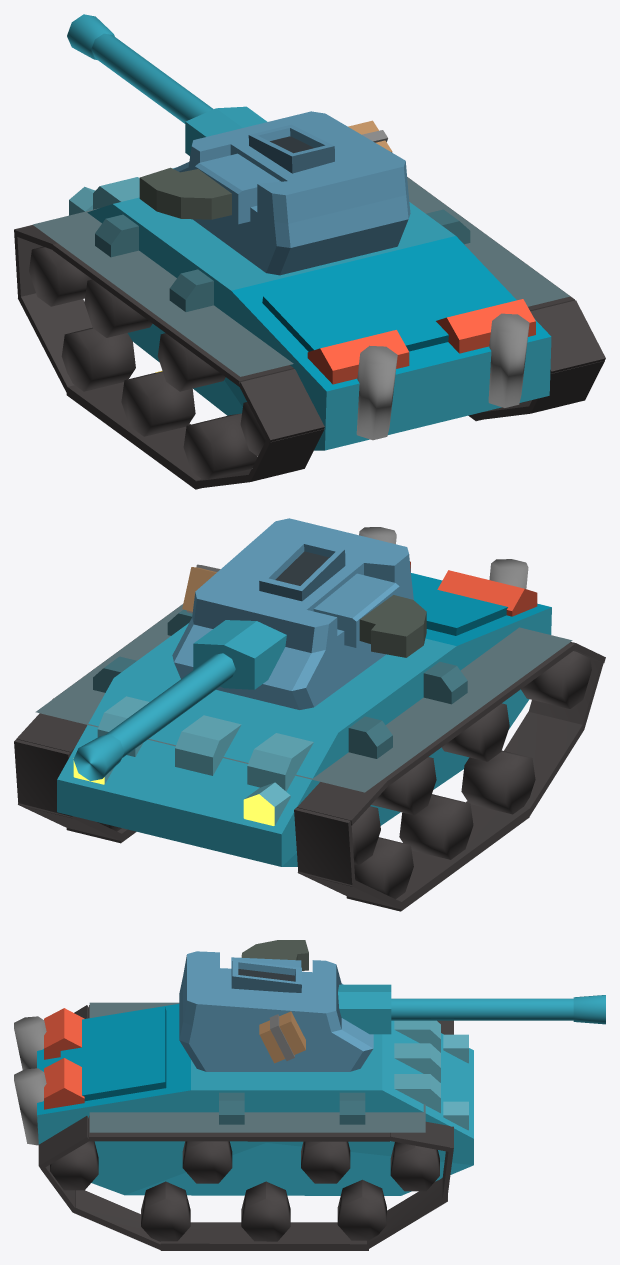
File: predator.glb
The picture shows the model from 3 angles, top to bottom: view 1: azimuth 30°, elevation 25°; view 2: azimuth 150°, elevation 25°; view 3: azimuth 270°, elevation 25°; orthographic projection. The views are drawn at different scales.
Visible parts, largest first — view 1: hull, turret, gun; view 2: hull, turret, gun; view 3: hull, turret, gun.
Boxes of the visible parts, box(x1,y1,x2,y2) form: hull: box(14, 167, 605, 489); turret: box(139, 106, 410, 275); gun: box(67, 14, 213, 123); hull: box(14, 527, 605, 911); turret: box(172, 518, 426, 709); gun: box(73, 653, 235, 781); hull: box(14, 1002, 473, 1250); turret: box(179, 940, 391, 1071); gun: box(391, 995, 605, 1024).
Size of what is drawn, in the model's own units: 3.47 by 2.63 by 6.57.
4 materials, 1 textured.
